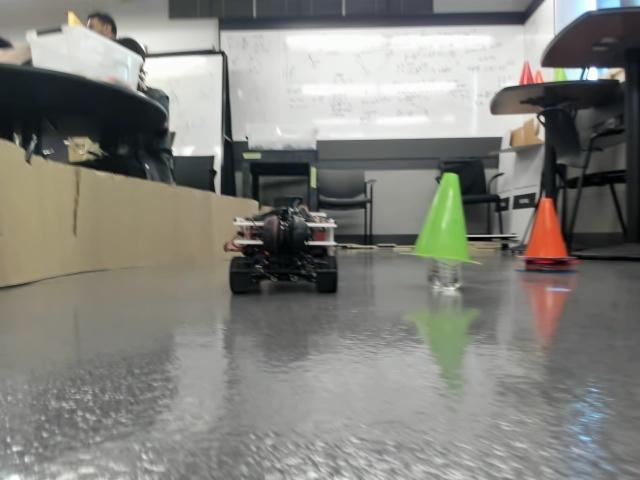Car: (225, 207, 340, 292)
